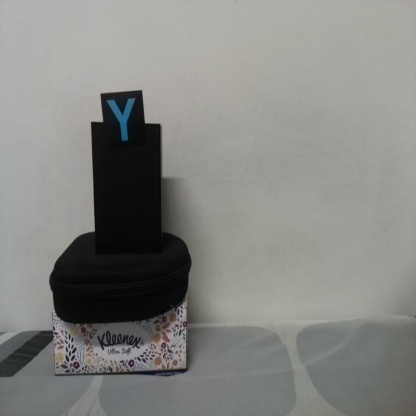id_14: (99, 94, 145, 148)
